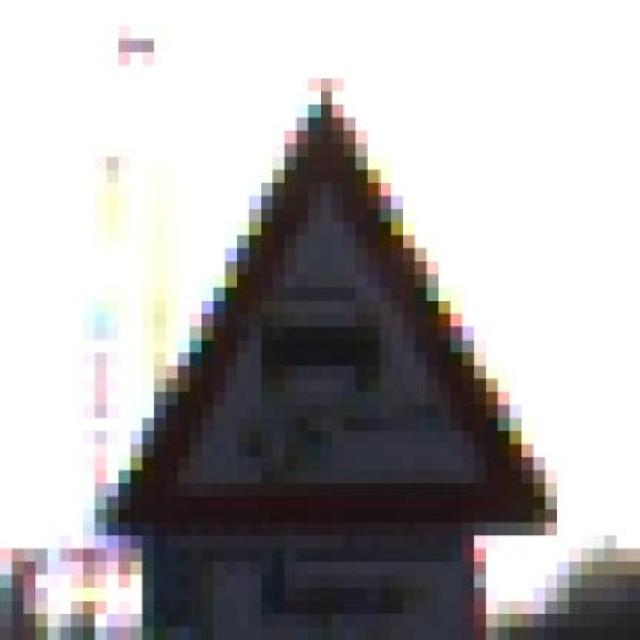Slippery Road Ahead: (93, 78, 556, 548)
